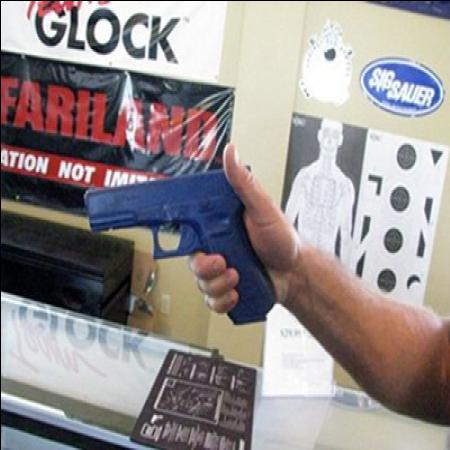Pistol: (79, 171, 271, 324)
